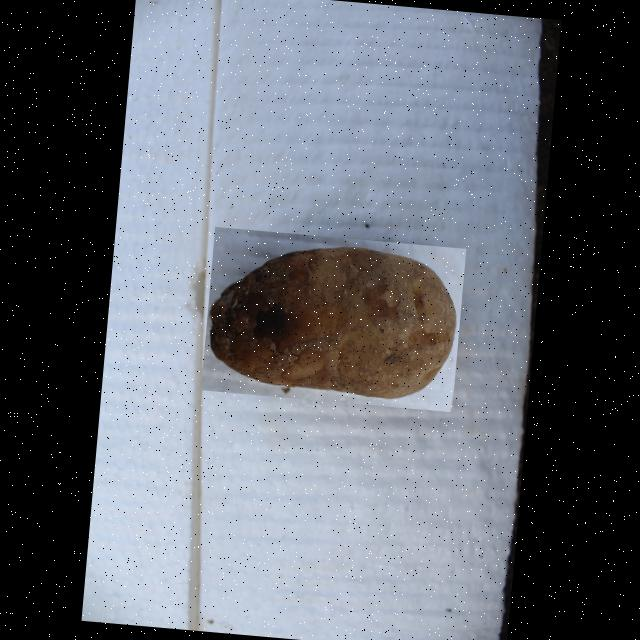Diseased-fungal potato: (200, 226, 464, 412)
